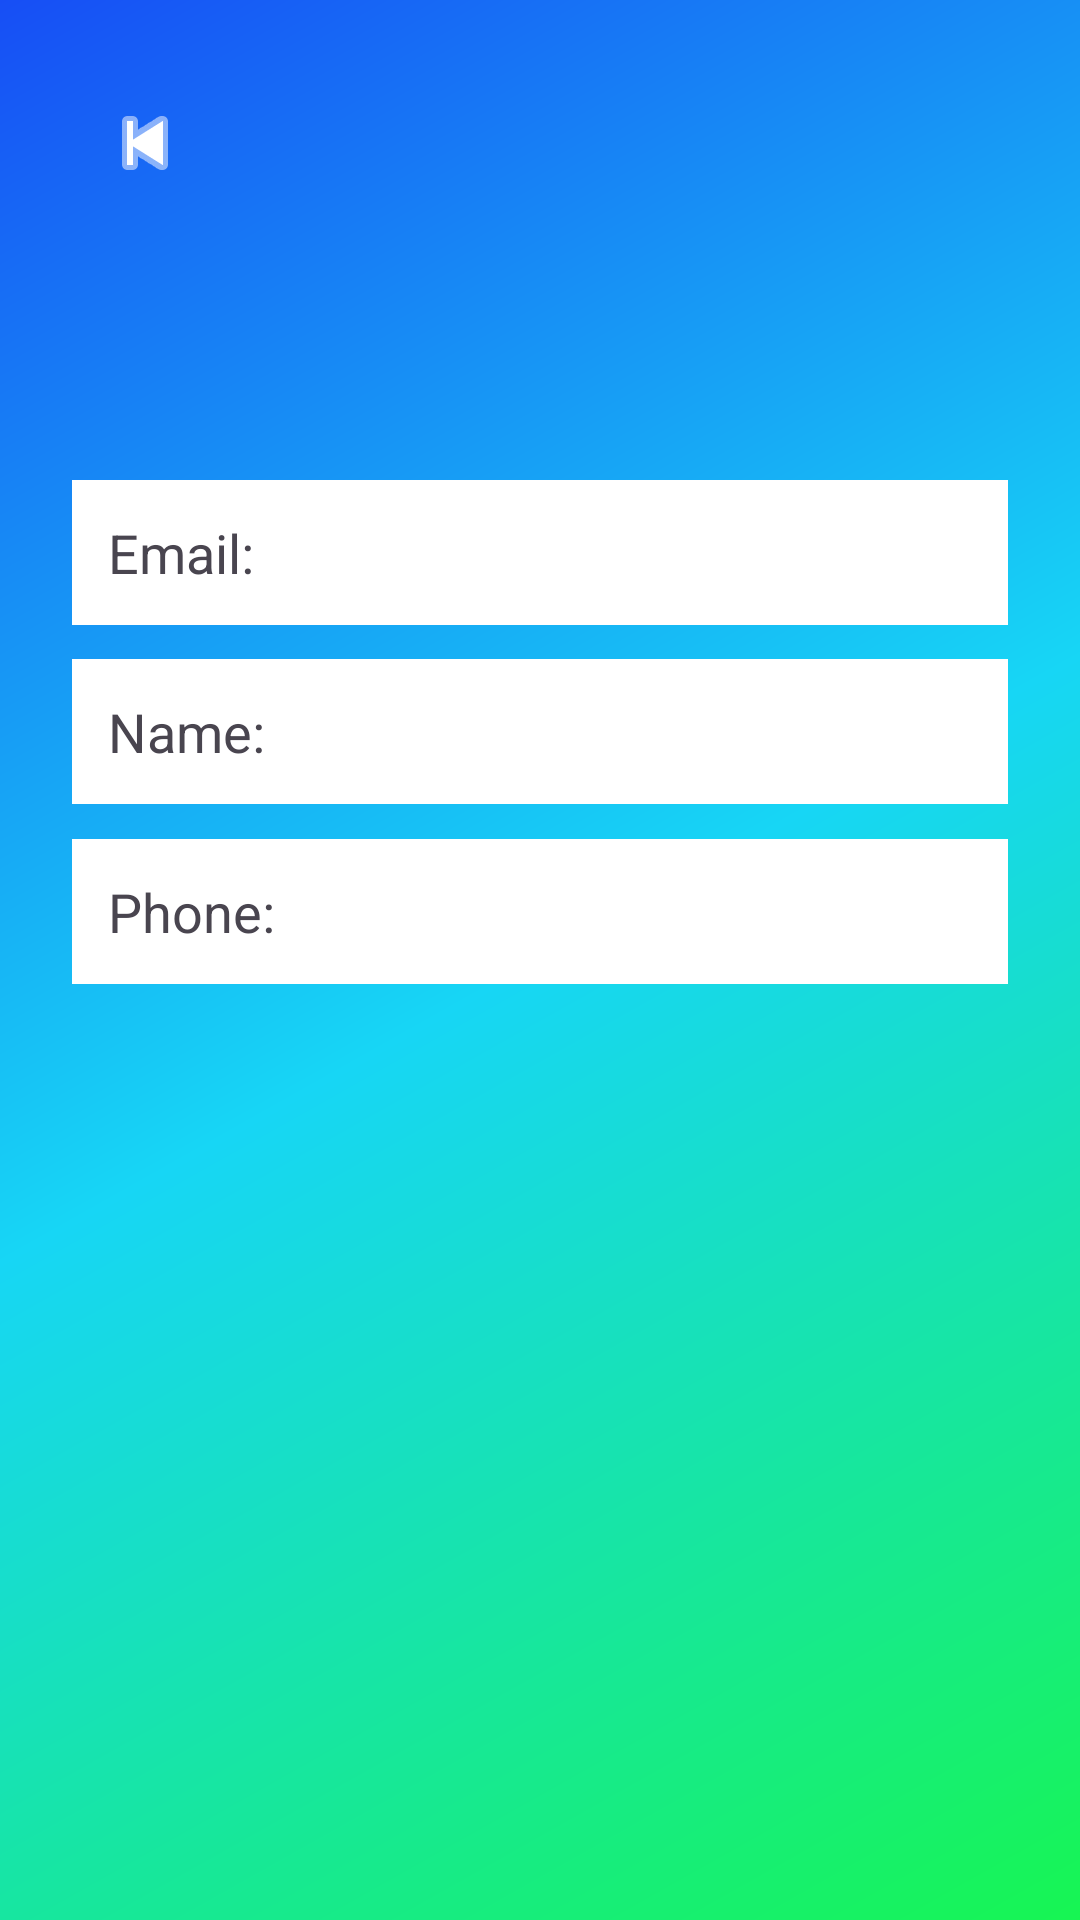

Where to tap for icons on this 1080w x 1920h app screen, as point (x, y):
Back: point (145, 143)
